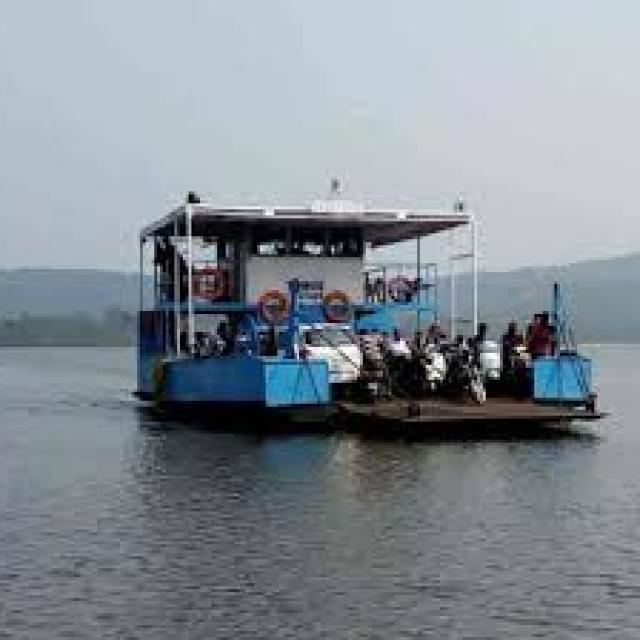navalvessels: (125, 168, 594, 440)
